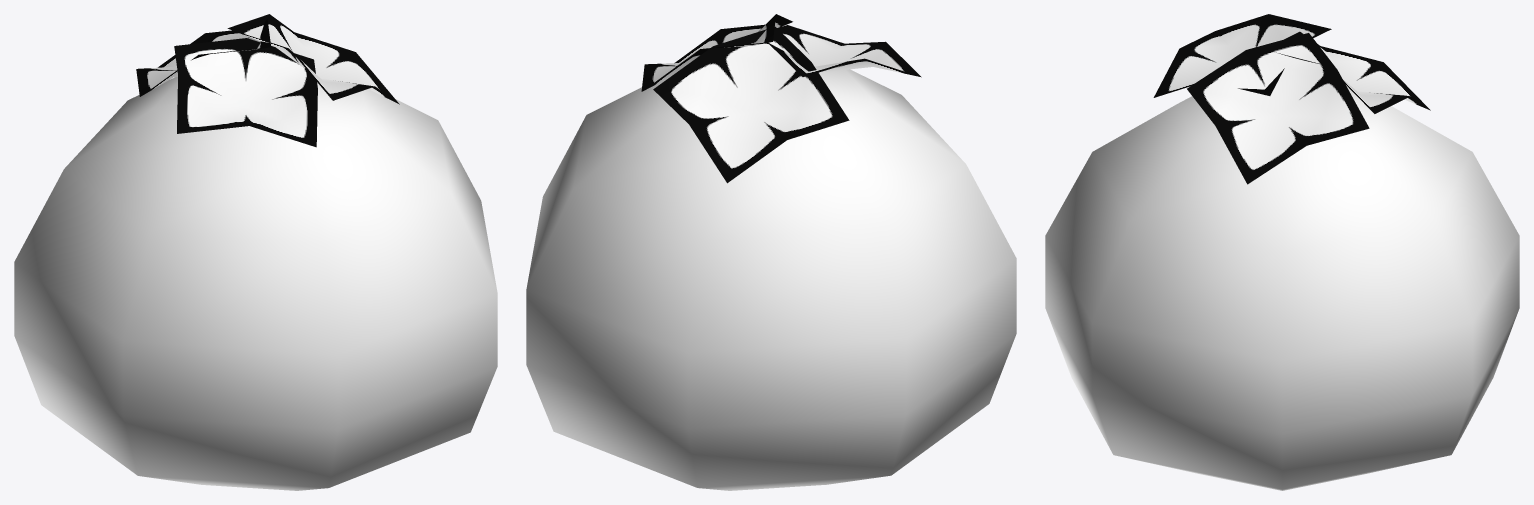
The model's file is Sky_ver1.fbx.
3 views of the same model, side by side, from view 1: azimuth 30°, elevation 25°; view 2: azimuth 150°, elevation 25°; view 3: azimuth 270°, elevation 25° (orthographic). The views are drawn at different scales.
Parts seen in each view (by area): view 1: Sky; view 2: Sky; view 3: Sky.
Boxes of the visible parts, x1=… form: Sky: x1=14, y1=14, x2=497, y2=490; Sky: x1=526, y1=14, x2=1016, y2=490; Sky: x1=1045, y1=14, x2=1519, y2=490.
Size of the model in its own units: 32.65 by 32.56 by 33.49.
Materials: 1 (1 with a texture image).
